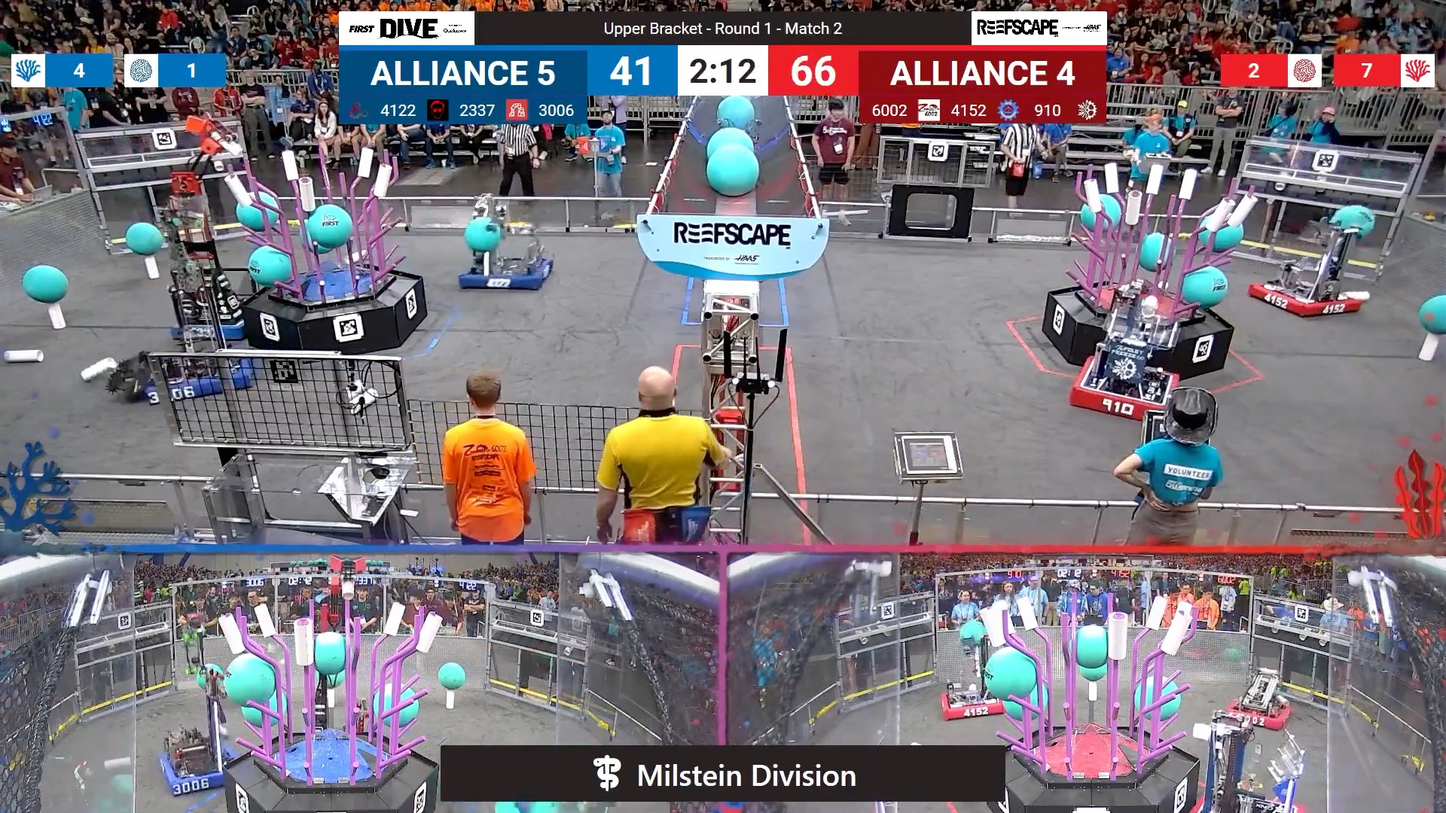bumpers: (1064, 360, 1181, 422), (136, 348, 260, 403), (154, 738, 246, 799), (1240, 280, 1366, 324), (453, 253, 557, 295), (936, 683, 1011, 724), (1220, 692, 1298, 730)
